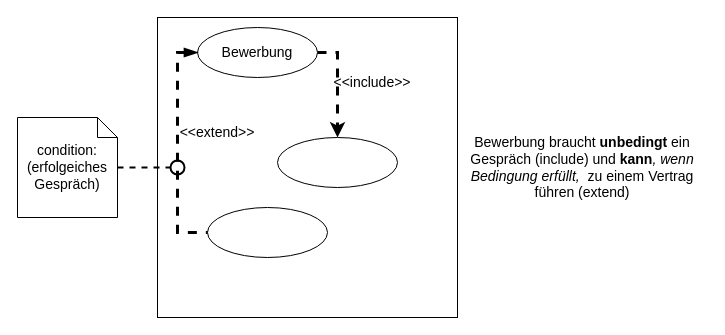
This 725x335 diagram has some shape labels left out. Here are the shapes that lost their labels. From the top down, the centre of each, then its label:
point (337, 162): Gespräch
point (267, 232): Vertrag
